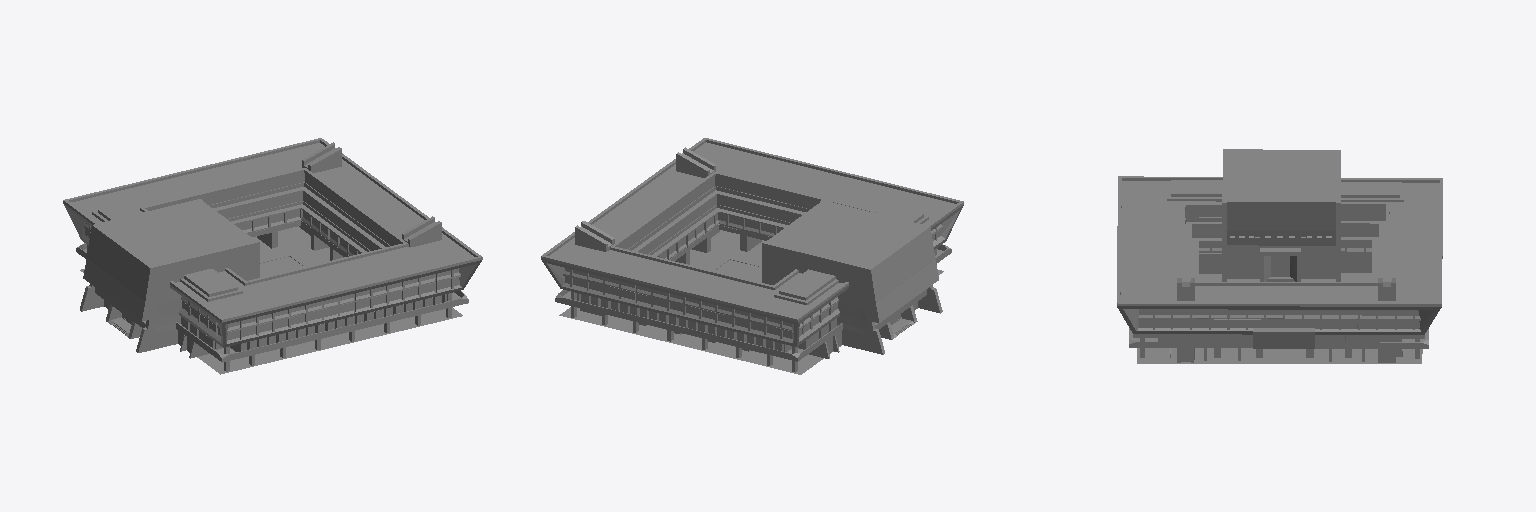
File: soviet_city_hall.obj
The picture shows the model from 3 angles: view 1: azimuth 30°, elevation 25°; view 2: azimuth 150°, elevation 25°; view 3: azimuth 270°, elevation 25°; orthographic projection.
Parts seen in each view (by area): view 1: city_hall, city_hall_head, hall_windows, city_hall_ground, p_pillars; view 2: city_hall, city_hall_head, hall_windows, city_hall_ground, p_pillars; view 3: city_hall, city_hall_head, hall_windows, city_hall_ground, p_pillars.
Part boxes in pixels (x1,y1,x2,y2): city_hall: (63, 138, 482, 362); city_hall_head: (80, 199, 259, 352); hall_windows: (84, 209, 460, 350); city_hall_ground: (80, 226, 462, 374); p_pillars: (87, 226, 451, 371); city_hall: (541, 138, 963, 361); city_hall_head: (762, 200, 942, 354); hall_windows: (563, 213, 942, 350); city_hall_ground: (559, 230, 943, 374); p_pillars: (571, 229, 936, 372); city_hall: (1117, 176, 1442, 348); city_hall_head: (1222, 149, 1340, 281); hall_windows: (1138, 241, 1420, 341); city_hall_ground: (1137, 273, 1422, 363); p_pillars: (1140, 258, 1419, 362).
Size of the model in its own units: 56.78 by 15.26 by 54.87.